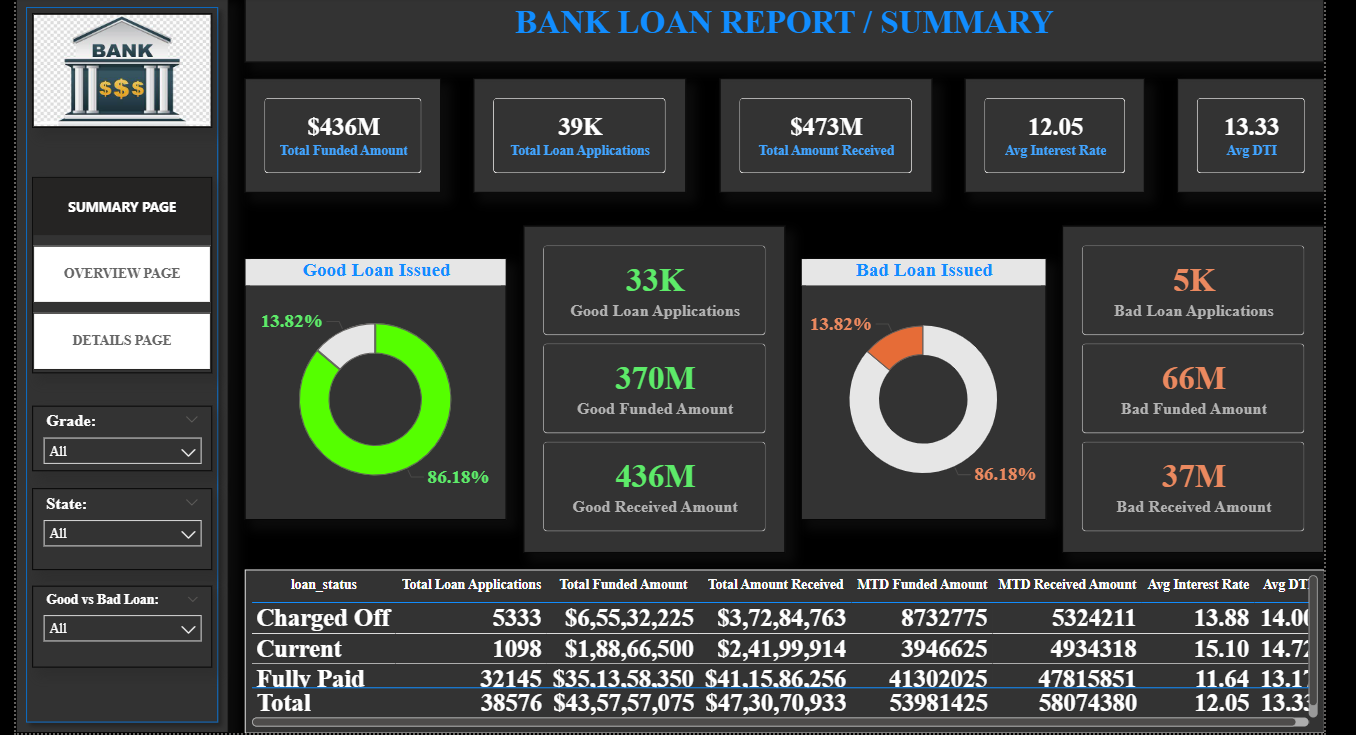

What the dashboard file says about the page in this screenshot:
{"tool":"powerbi","page":{"name":"SUMMARY PAGE","canvas":[1280,720],"ordinal":0},"visuals":[{"type":"shape","box":[0,0,208,720],"z":0},{"type":"cardVisual","fields":{"Data":["financial_loan.Total Loan Applications"]},"box":[448,80,208,112],"z":1000},{"type":"cardVisual","fields":{"Data":["financial_loan.Total Funded Amount"]},"box":[224,80,192,112],"z":2000},{"type":"cardVisual","fields":{"Data":["financial_loan.Total Amount Received"]},"box":[688,80,208,112],"z":3000},{"type":"cardVisual","fields":{"Data":["financial_loan.Avg Interest Rate"]},"box":[928,80,176,112],"z":4000},{"type":"cardVisual","fields":{"Data":["financial_loan.Avg DTI"]},"box":[1136,80,144,112],"z":5000},{"type":"donutChart","title":"Good Loan Issued","fields":{"Category":["financial_loan.Loan Type"],"Y":["financial_loan.Loan Count"]},"box":[224,256,256,256],"z":6000},{"type":"cardVisual","fields":{"Data":["financial_loan.Good Loan Applications","financial_loan.Good Funded Amount","financial_loan.Good Received Amount"]},"box":[496,224,256,320],"z":7000},{"type":"cardVisual","fields":{"Data":["financial_loan.Bad Loan Applications","financial_loan.Bad Funded Amount","financial_loan.Bad Received Amount"]},"box":[1024,224,256,320],"z":8000},{"type":"donutChart","title":"Bad Loan Issued","fields":{"Y":["financial_loan.Loan Count"],"Category":["financial_loan.Loan Type"]},"box":[768,256,240,256],"z":9000},{"type":"tableEx","fields":{"Values":["financial_loan.loan_status","financial_loan.Total Loan Applications","financial_loan.Total Funded Amount","financial_loan.Total Amount Received","financial_loan.MTD Funded Amount","financial_loan.MTD Received Amount","financial_loan.Avg Interest Rate","financial_loan.Avg DTI"]},"box":[224,560,1056,160],"z":10000},{"type":"textbox","box":[224,0,1056,64],"z":11000},{"type":"slicer","fields":{"Values":["financial_loan.grade"]},"box":[16,400,176,64],"z":12000},{"type":"slicer","fields":{"Values":["financial_loan.address_state"]},"box":[16,480,176,80],"z":13000},{"type":"slicer","fields":{"Values":["financial_loan.Loan Type"]},"box":[16,576,176,80],"z":14000},{"type":"pageNavigator","box":[16,176,176,192],"z":15000},{"type":"image","box":[16,16,176,112],"z":16000}]}

Visuals, with their boxes on the page's 1280x720 design canvas (x1, y1, x2, y2). These are canvas units, not pixel positions in the 1356x735 screenshot, which may show the page scaled, cropped or inside an application window:
shape: [0,0,208,720]
cardVisual - financial_loan.Total Loan Applications: [448,80,656,192]
cardVisual - financial_loan.Total Funded Amount: [224,80,416,192]
cardVisual - financial_loan.Total Amount Received: [688,80,896,192]
cardVisual - financial_loan.Avg Interest Rate: [928,80,1104,192]
cardVisual - financial_loan.Avg DTI: [1136,80,1280,192]
"Good Loan Issued" donutChart: [224,256,480,512]
cardVisual - financial_loan.Good Loan Applications x financial_loan.Good Funded Amount: [496,224,752,544]
cardVisual - financial_loan.Bad Loan Applications x financial_loan.Bad Funded Amount: [1024,224,1280,544]
"Bad Loan Issued" donutChart: [768,256,1008,512]
tableEx - financial_loan.loan_status x financial_loan.Total Loan Applications: [224,560,1280,720]
textbox: [224,0,1280,64]
slicer - financial_loan.grade: [16,400,192,464]
slicer - financial_loan.address_state: [16,480,192,560]
slicer - financial_loan.Loan Type: [16,576,192,656]
pageNavigator: [16,176,192,368]
image: [16,16,192,128]
